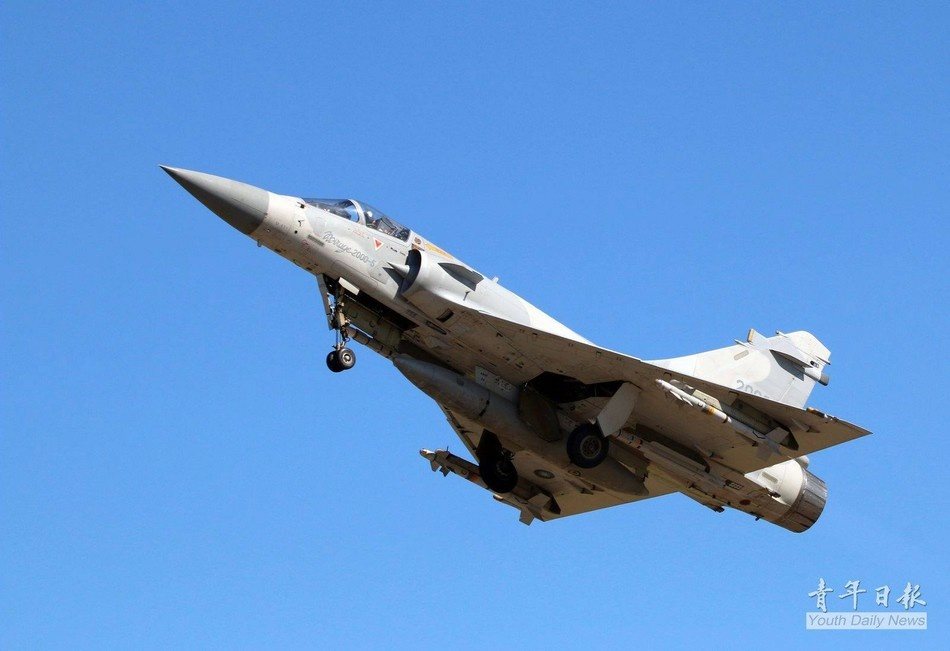airplane: (155, 160, 872, 545)
